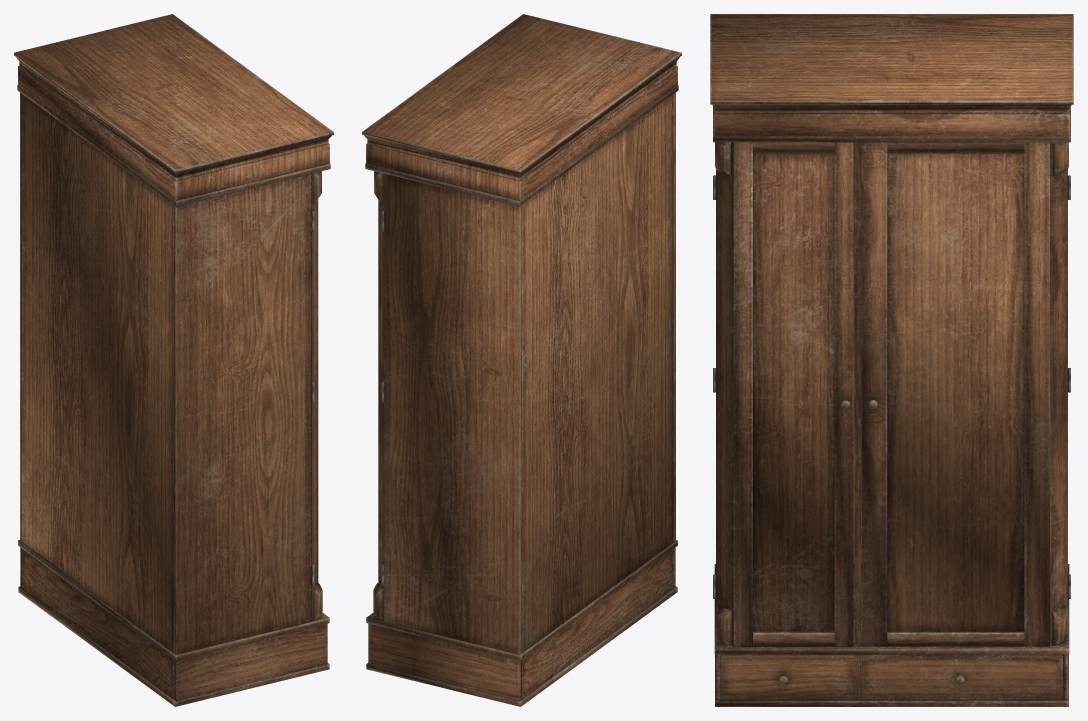
File: wardrobe_soviet_old_skilletik.glb
3 renders of one model, left to right at view 1: azimuth 30°, elevation 25°; view 2: azimuth 150°, elevation 25°; view 3: azimuth 270°, elevation 25°, orthographic. The views are drawn at different scales.
Parts seen in each view (by area): view 1: 1_low__0; view 2: 1_low__0; view 3: 1_low__0.
Part boxes in pixels (x1,y1,x2,y2): 1_low__0: [14, 14, 333, 706]; 1_low__0: [362, 14, 681, 706]; 1_low__0: [710, 14, 1073, 706].
Size of the model in its own units: 0.637 by 2.04 by 1.11.
1 material, 1 textured.
